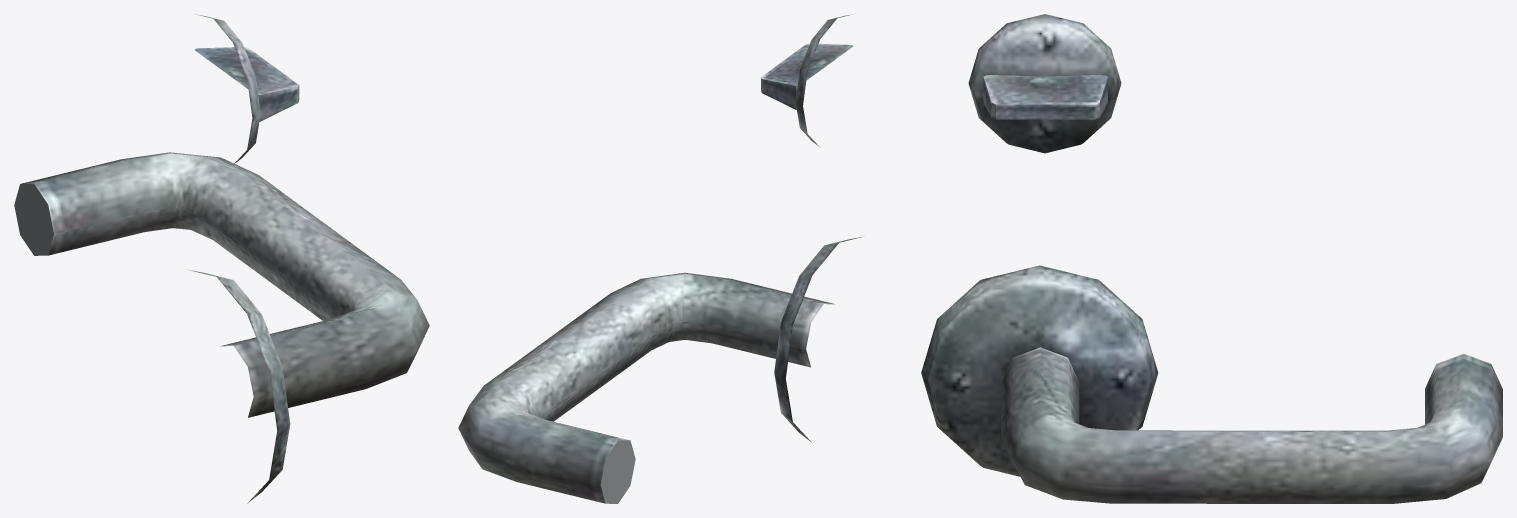
Rendered from doorknob.glb.
The picture shows the model from 3 angles, left to right: view 1: azimuth 30°, elevation 25°; view 2: azimuth 150°, elevation 25°; view 3: azimuth 270°, elevation 25°; orthographic projection. The views are drawn at different scales.
Parts seen in each view (by area): view 1: 0_doorknob; view 2: 0_doorknob; view 3: 0_doorknob.
Boxes of the visible parts, box(x1,y1,x2,y2) form: 0_doorknob: box(14, 14, 429, 503); 0_doorknob: box(458, 14, 861, 503); 0_doorknob: box(921, 14, 1502, 503).
Size of the model in its own units: 0.0924 by 0.1803 by 0.2039.
Materials: 1 (1 with a texture image).
